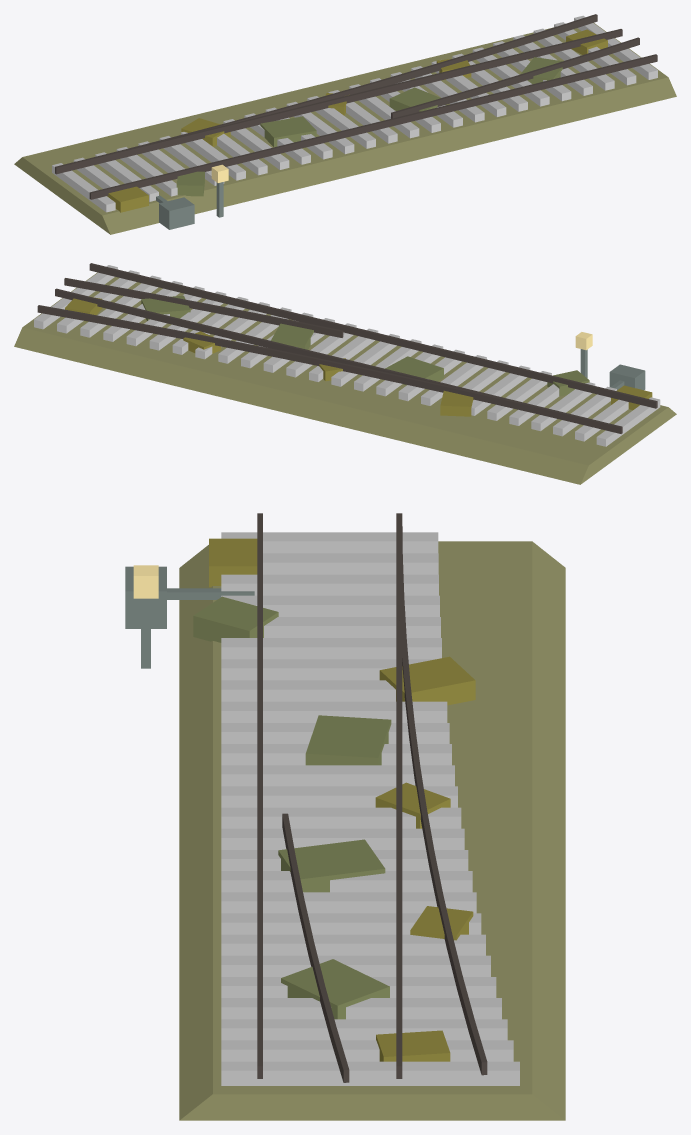
File: SM_Via_DesvioIzq_v2_Maleza_LOD0.fbx
3 views of the same model, one above another, from view 1: azimuth 30°, elevation 25°; view 2: azimuth 150°, elevation 25°; view 3: azimuth 270°, elevation 25° (orthographic). The views are drawn at different scales.
Parts seen in each view (by area): view 1: SM_via_trazado_v27_LOD0; view 2: SM_via_trazado_v27_LOD0; view 3: SM_via_trazado_v27_LOD0.
Boxes of the visible parts, x1,y1,x2,y2 form: SM_via_trazado_v27_LOD0: (14,14,676,234); SM_via_trazado_v27_LOD0: (14,263,676,484); SM_via_trazado_v27_LOD0: (125,513,565,1120).
Bounding box in the file's own units: 15.78 × 1.27 × 5.28.
